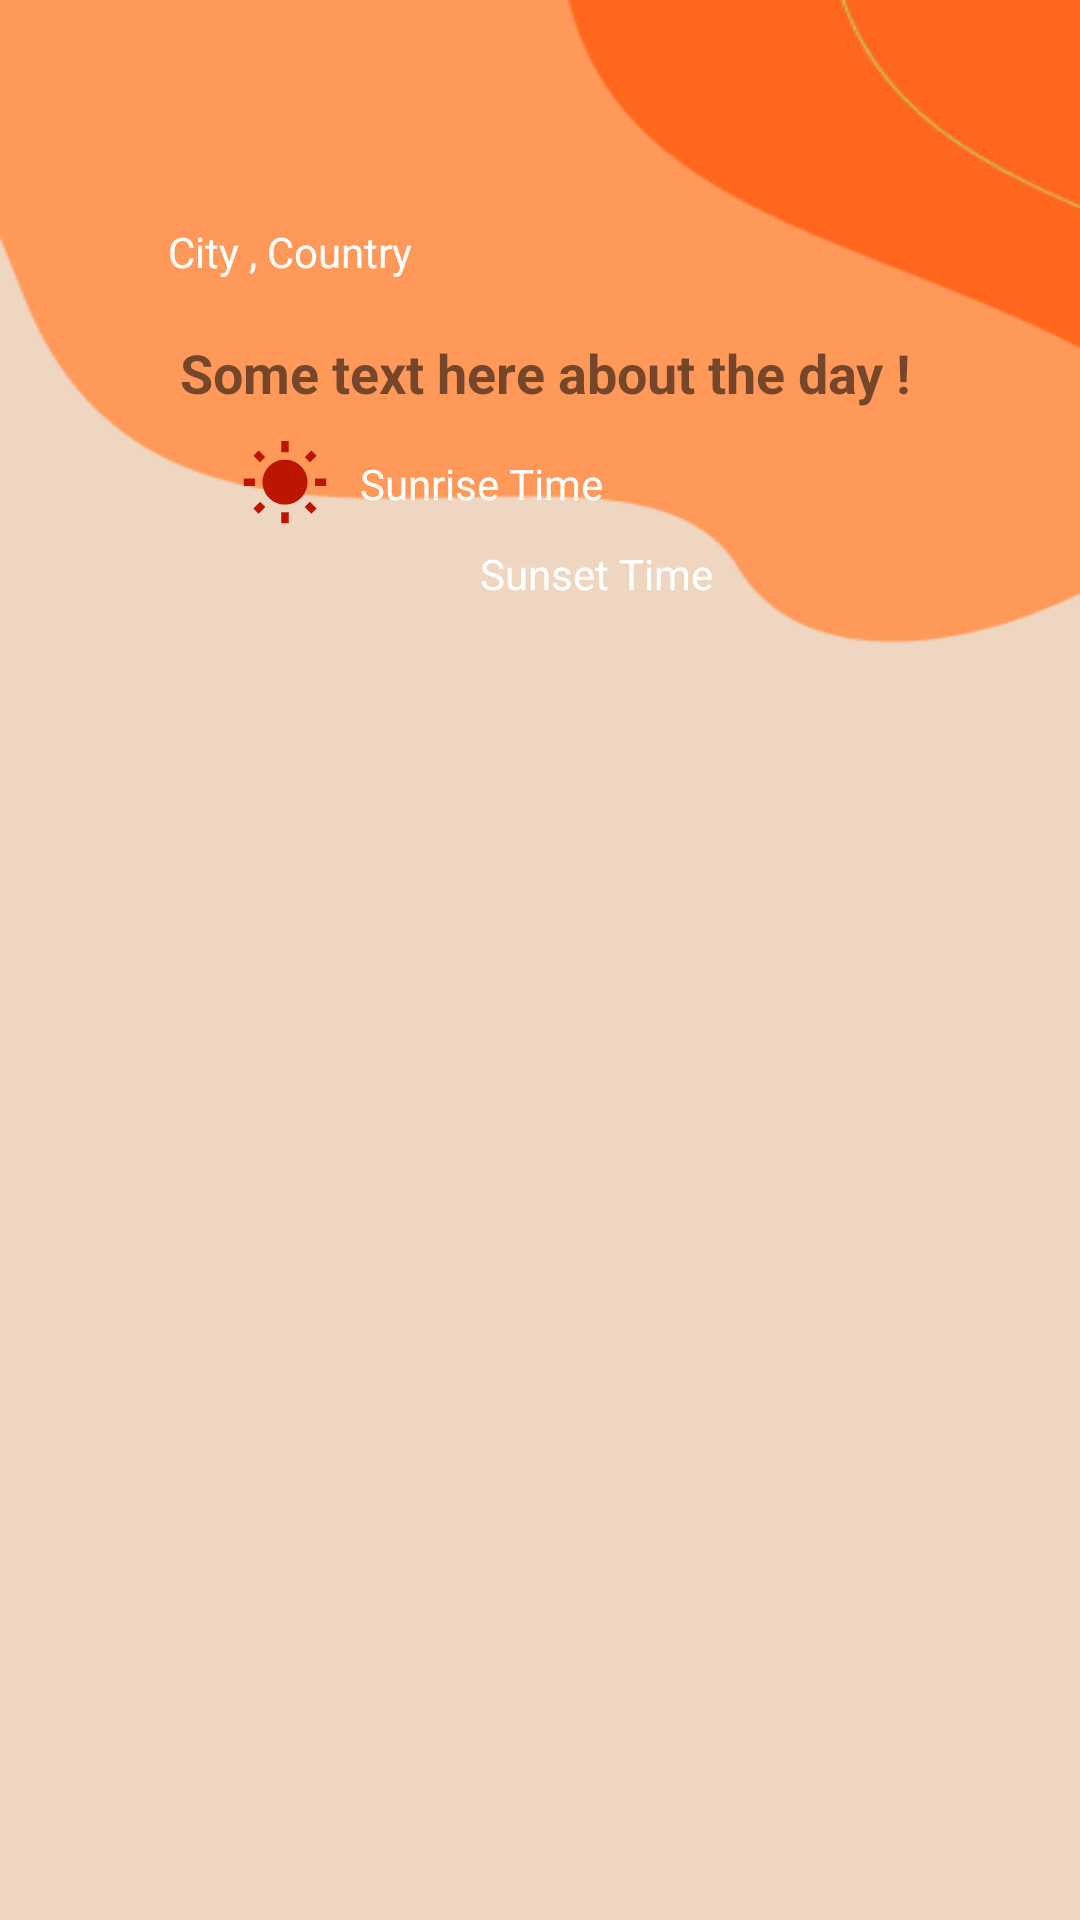

Where to tap for icons on this 1080 x 1920 app screen, as point (x, y):
sunny: point (285, 484)
